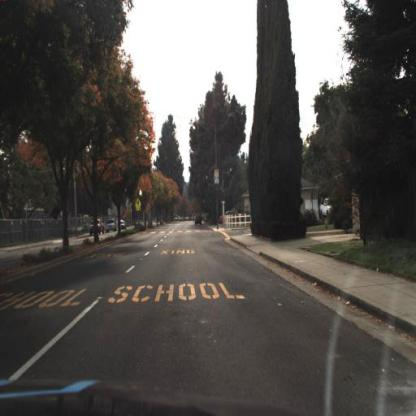car: (318, 193, 342, 227), (90, 220, 105, 237), (193, 213, 206, 231), (105, 218, 116, 232), (118, 219, 128, 231)
